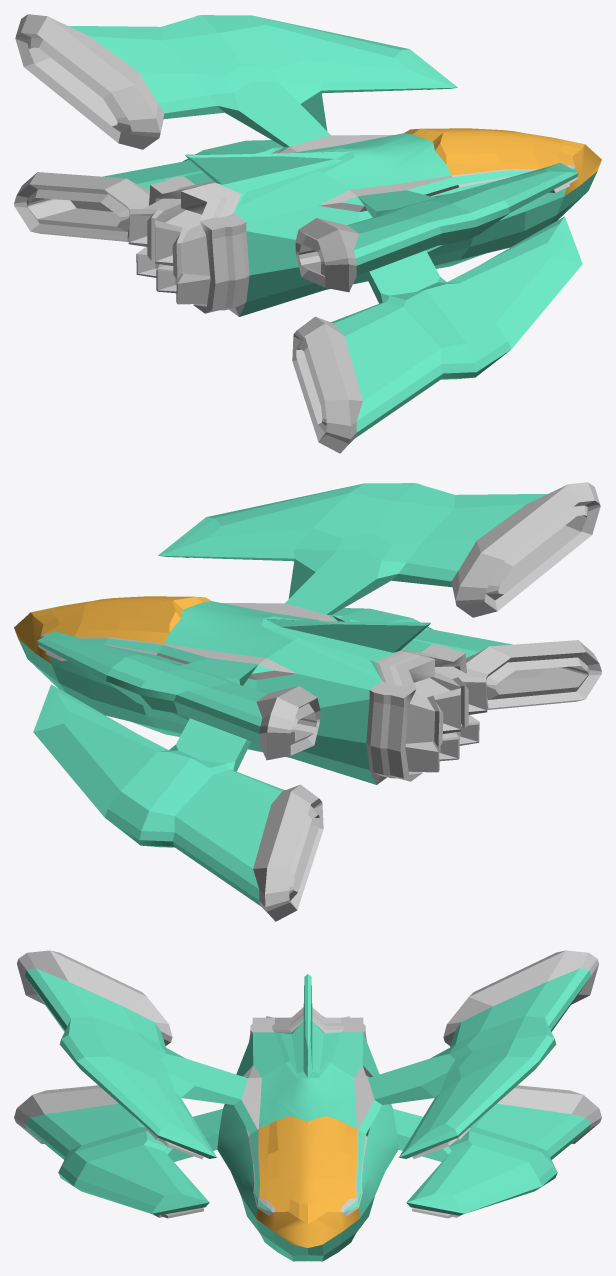
The picture shows the model from 3 angles, top to bottom: view 1: azimuth 30°, elevation 25°; view 2: azimuth 150°, elevation 25°; view 3: azimuth 270°, elevation 25°; orthographic projection. The views are drawn at different scales.
Parts seen in each view (by area): view 1: X_Ship2; view 2: X_Ship2; view 3: X_Ship2.
Boxes of the visible parts, x1=… form: X_Ship2: x1=14, y1=14, x2=601, y2=453; X_Ship2: x1=14, y1=482, x2=601, y2=921; X_Ship2: x1=14, y1=950, x2=601, y2=1261.
Bounding box in the file's own units: 74.76 × 34.91 × 95.34.
